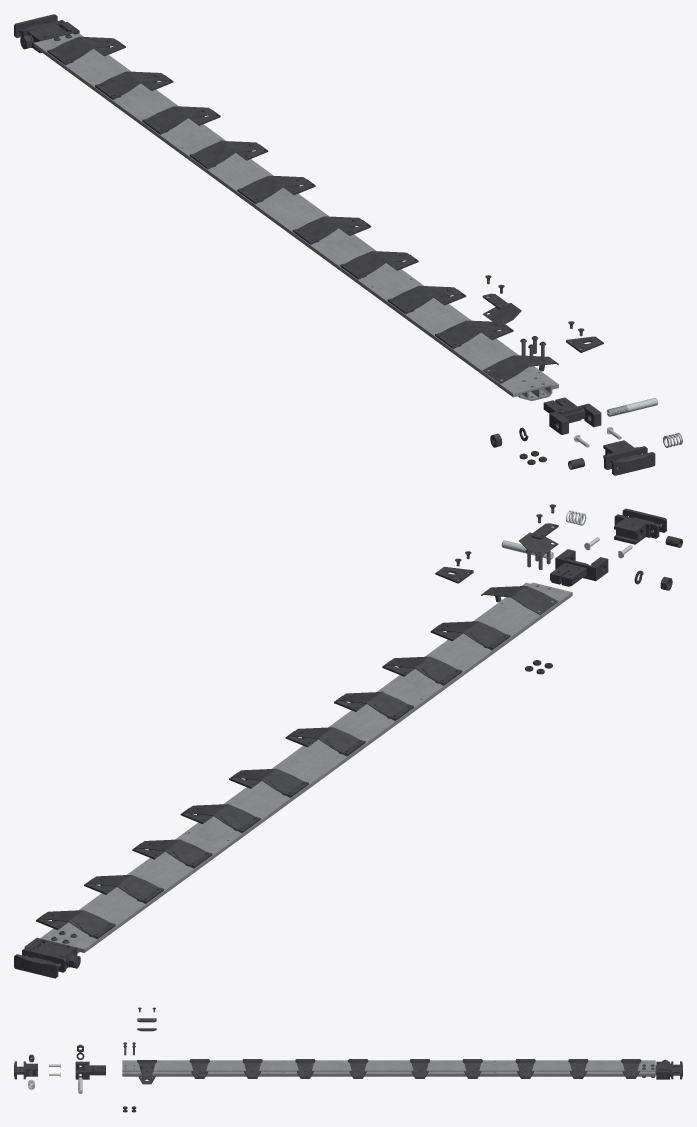
The model's file is conway_materijali (1).glb.
3 renders of one model, top to bottom at view 1: azimuth 30°, elevation 25°; view 2: azimuth 150°, elevation 25°; view 3: azimuth 270°, elevation 25°, orthographic. The views are drawn at different scales.
Visible parts, largest first — view 1: 10-302-0-00-00 (2); view 2: 10-302-0-00-00 (2); view 3: 10-302-0-00-00 (2).
Boxes of the visible parts, x1=… form: 10-302-0-00-00 (2): x1=14, y1=14, x2=682, y2=475; 10-302-0-00-00 (2): x1=14, y1=504, x2=682, y2=978; 10-302-0-00-00 (2): x1=14, y1=1007, x2=682, y2=1112.
Bounding box in the file's own units: 0.2934 × 0.2903 × 1.84.
Materials: 22 (22 with a texture image).
